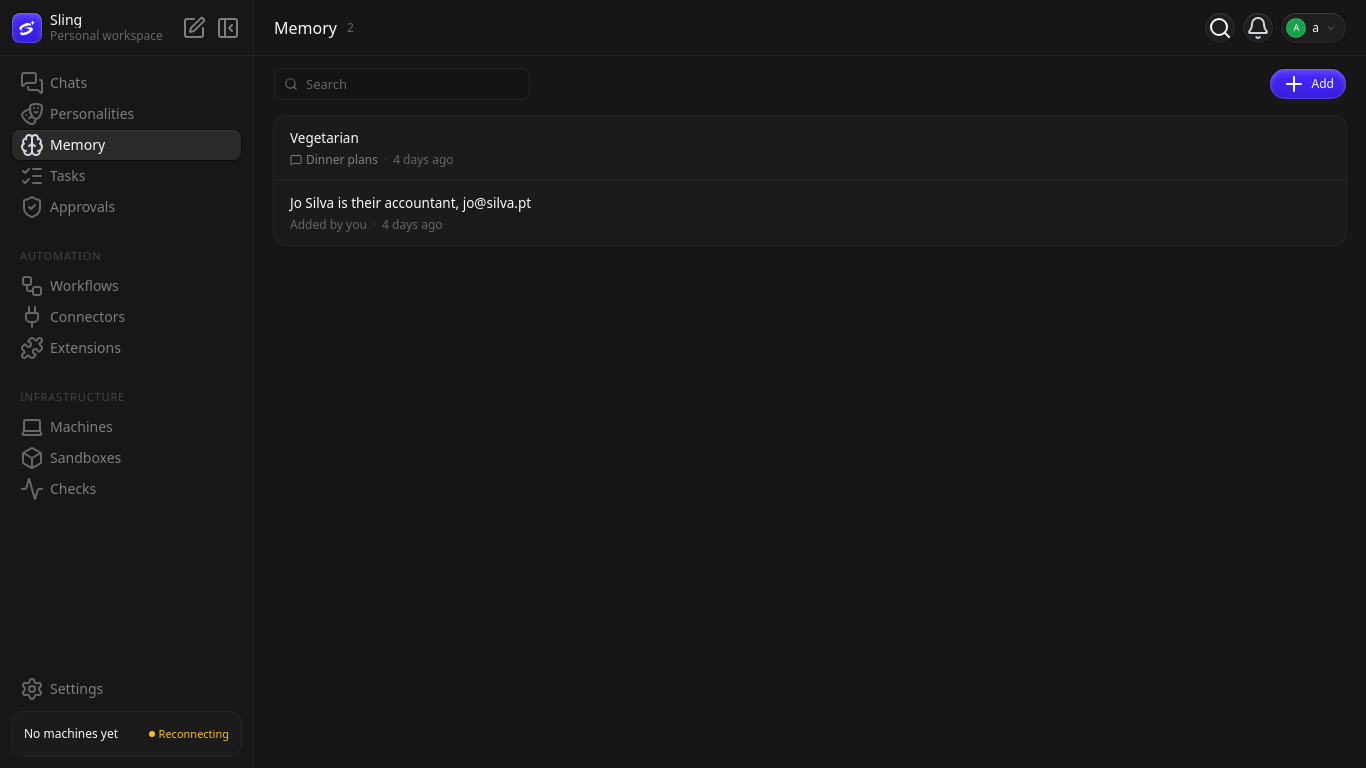
it: the Memory page › filters as you type, by every word
The width and height of the screenshot is (1366, 768).
In the search field named "Search memories": point(402, 84) top-left (274, 68), bottom-right (530, 100), type "silva acc"
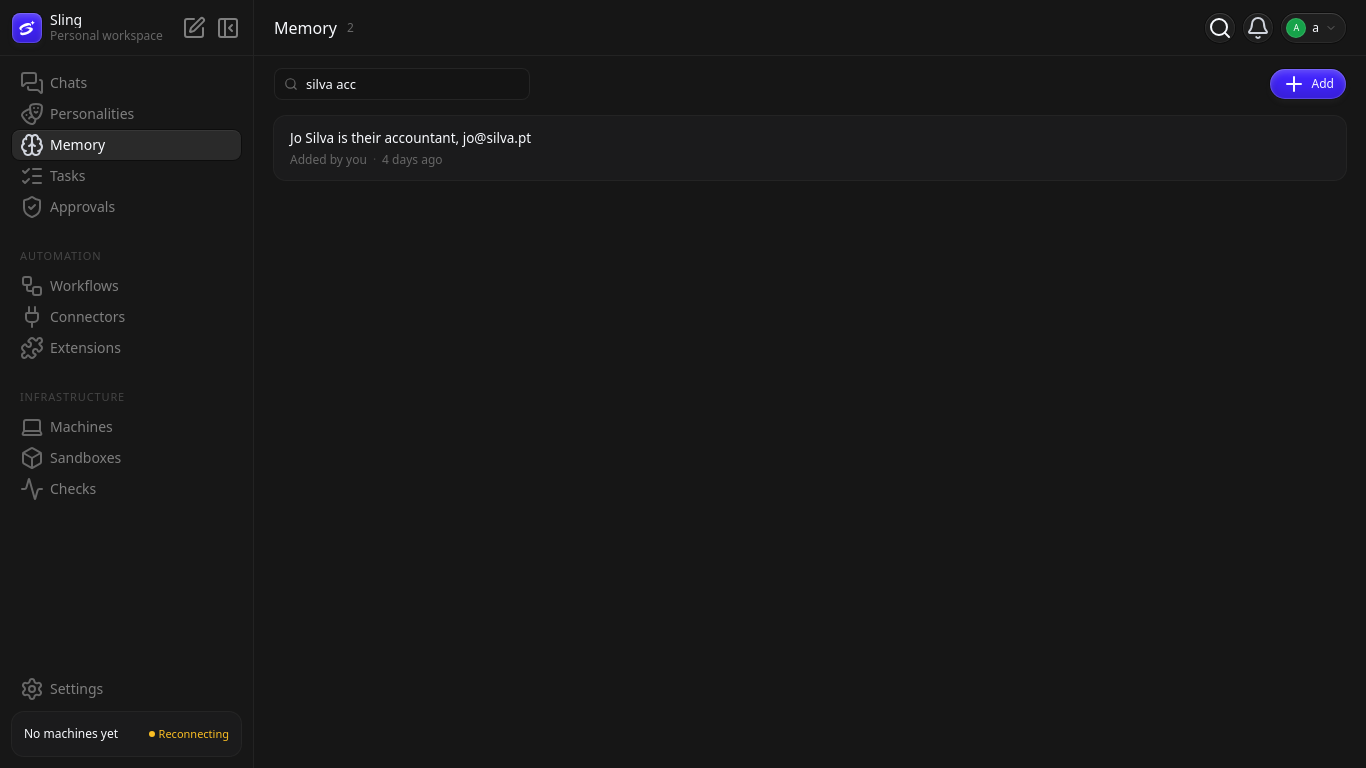
Replace the text in the search field with "boiler": point(402, 84) top-left (274, 68), bottom-right (530, 100)
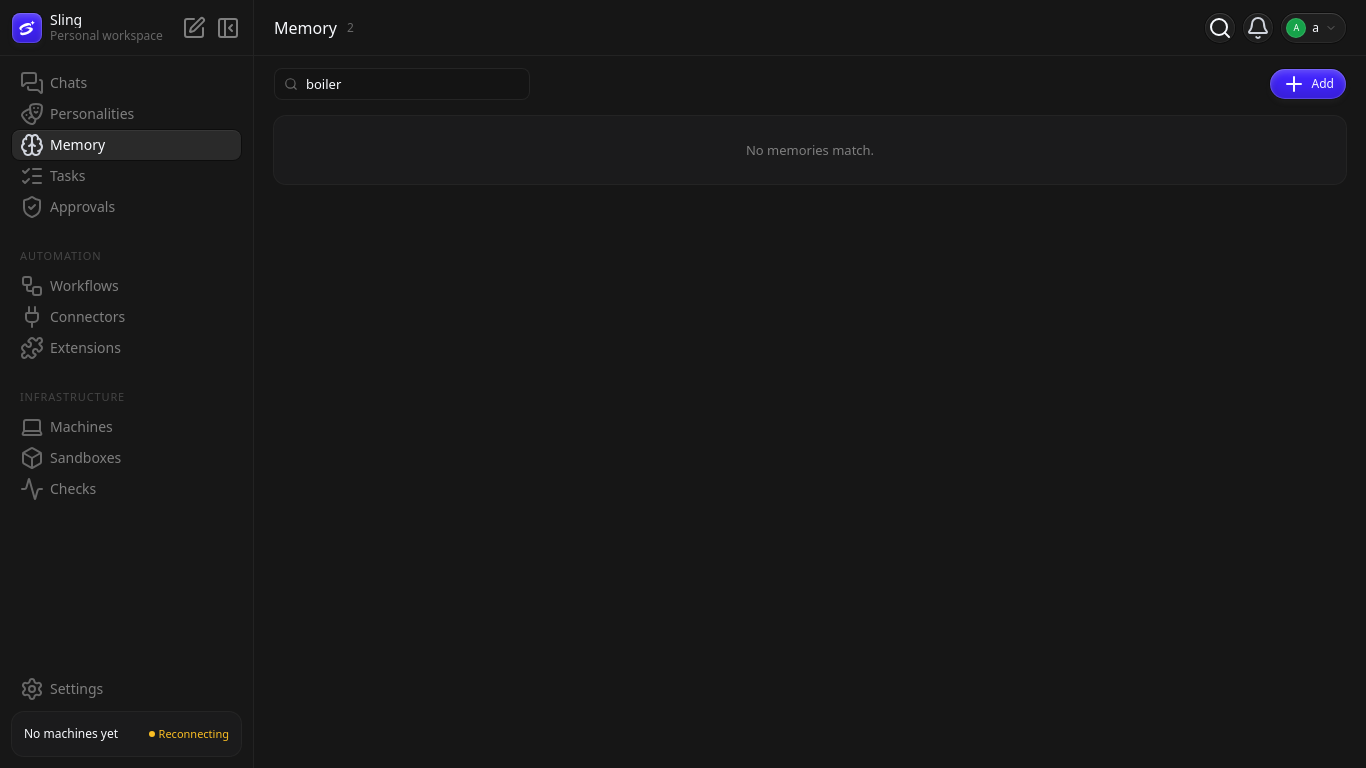
Check: the text "No memories match." is shown, box top-left (746, 141), bottom-right (874, 159)
